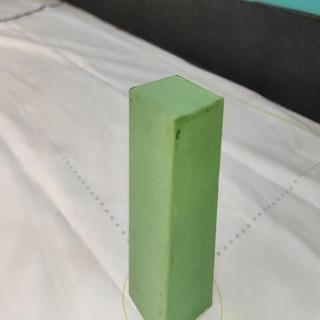greenbox: (129, 72, 225, 320)
